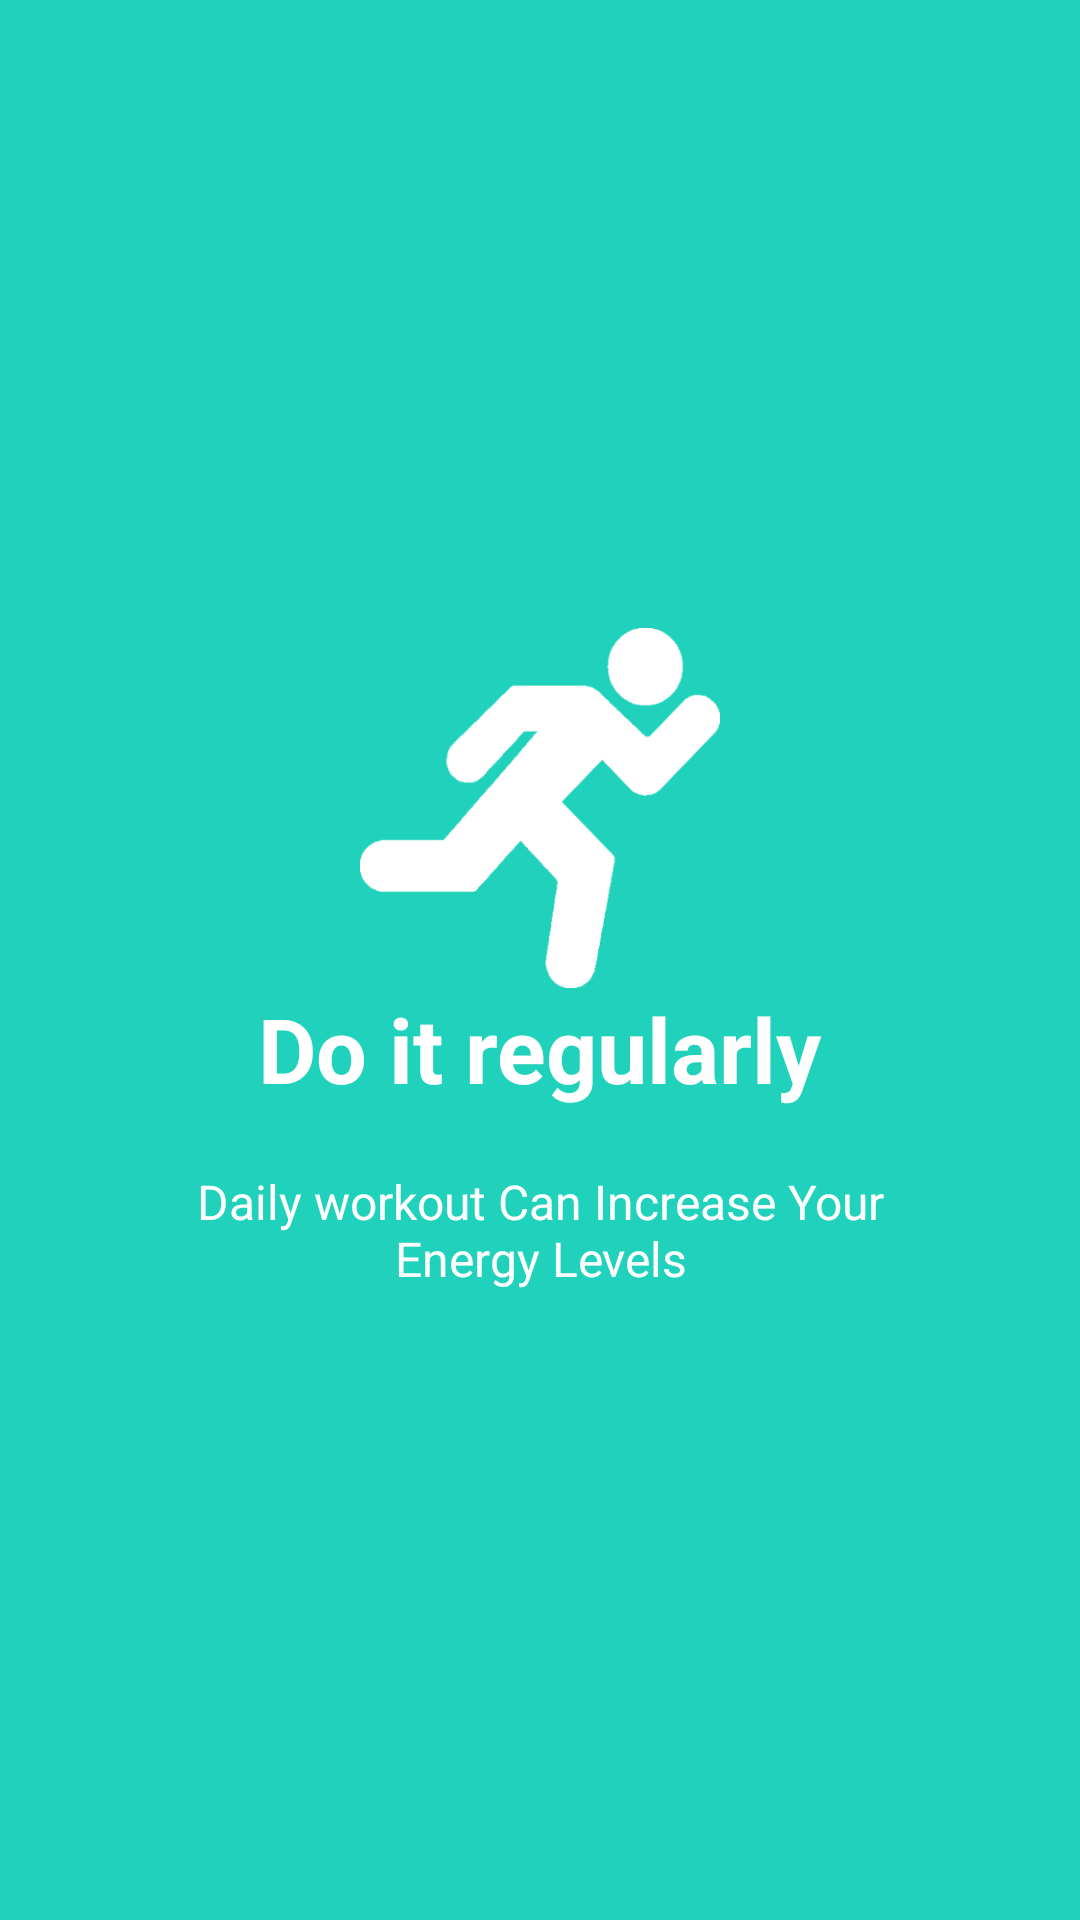

Icons on this 1080×1920 Android screen, each with the point to tap as point (x, y):
run: point (540, 808)
